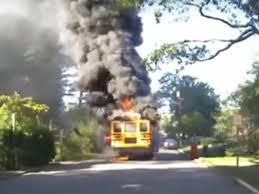fire: (106, 97, 154, 159)
